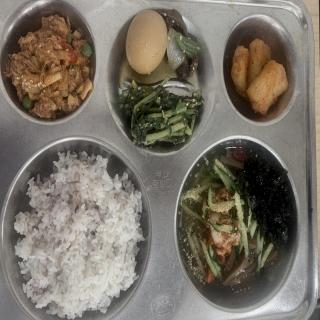Nasi: (14, 159, 150, 320)
